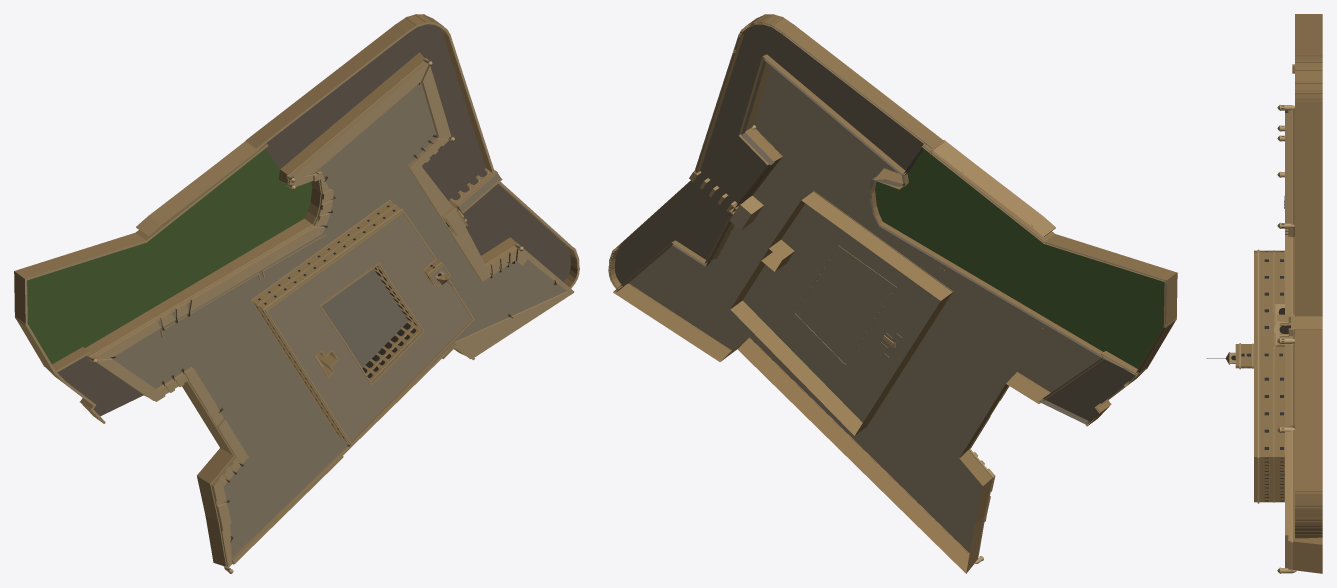
File: castell-montjuic.glb
The picture shows the model from 3 angles, left to right: view 1: azimuth 30°, elevation 25°; view 2: azimuth 150°, elevation 25°; view 3: azimuth 270°, elevation 25°; orthographic projection. The views are drawn at different scales.
Visible parts, largest first — view 1: castell-montjuic; view 2: castell-montjuic; view 3: castell-montjuic.
Boxes of the visible parts, x1,y1,x2,y2 form: castell-montjuic: [14, 14, 579, 573]; castell-montjuic: [608, 14, 1177, 573]; castell-montjuic: [1206, 14, 1322, 573].
Size of the model in its own units: 312 by 269 by 44.2.
